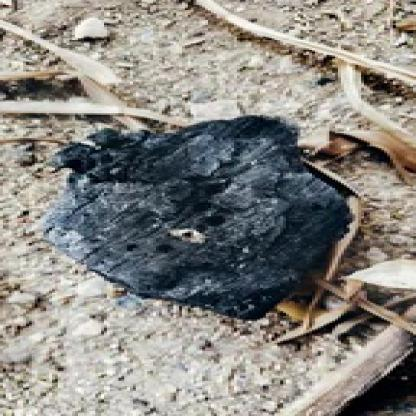Sedimentary_coal: (14, 117, 390, 336)
